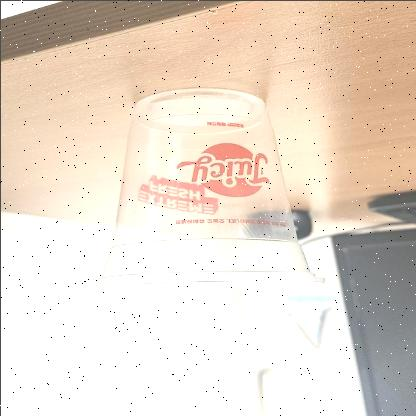Others: (84, 88, 326, 292)
